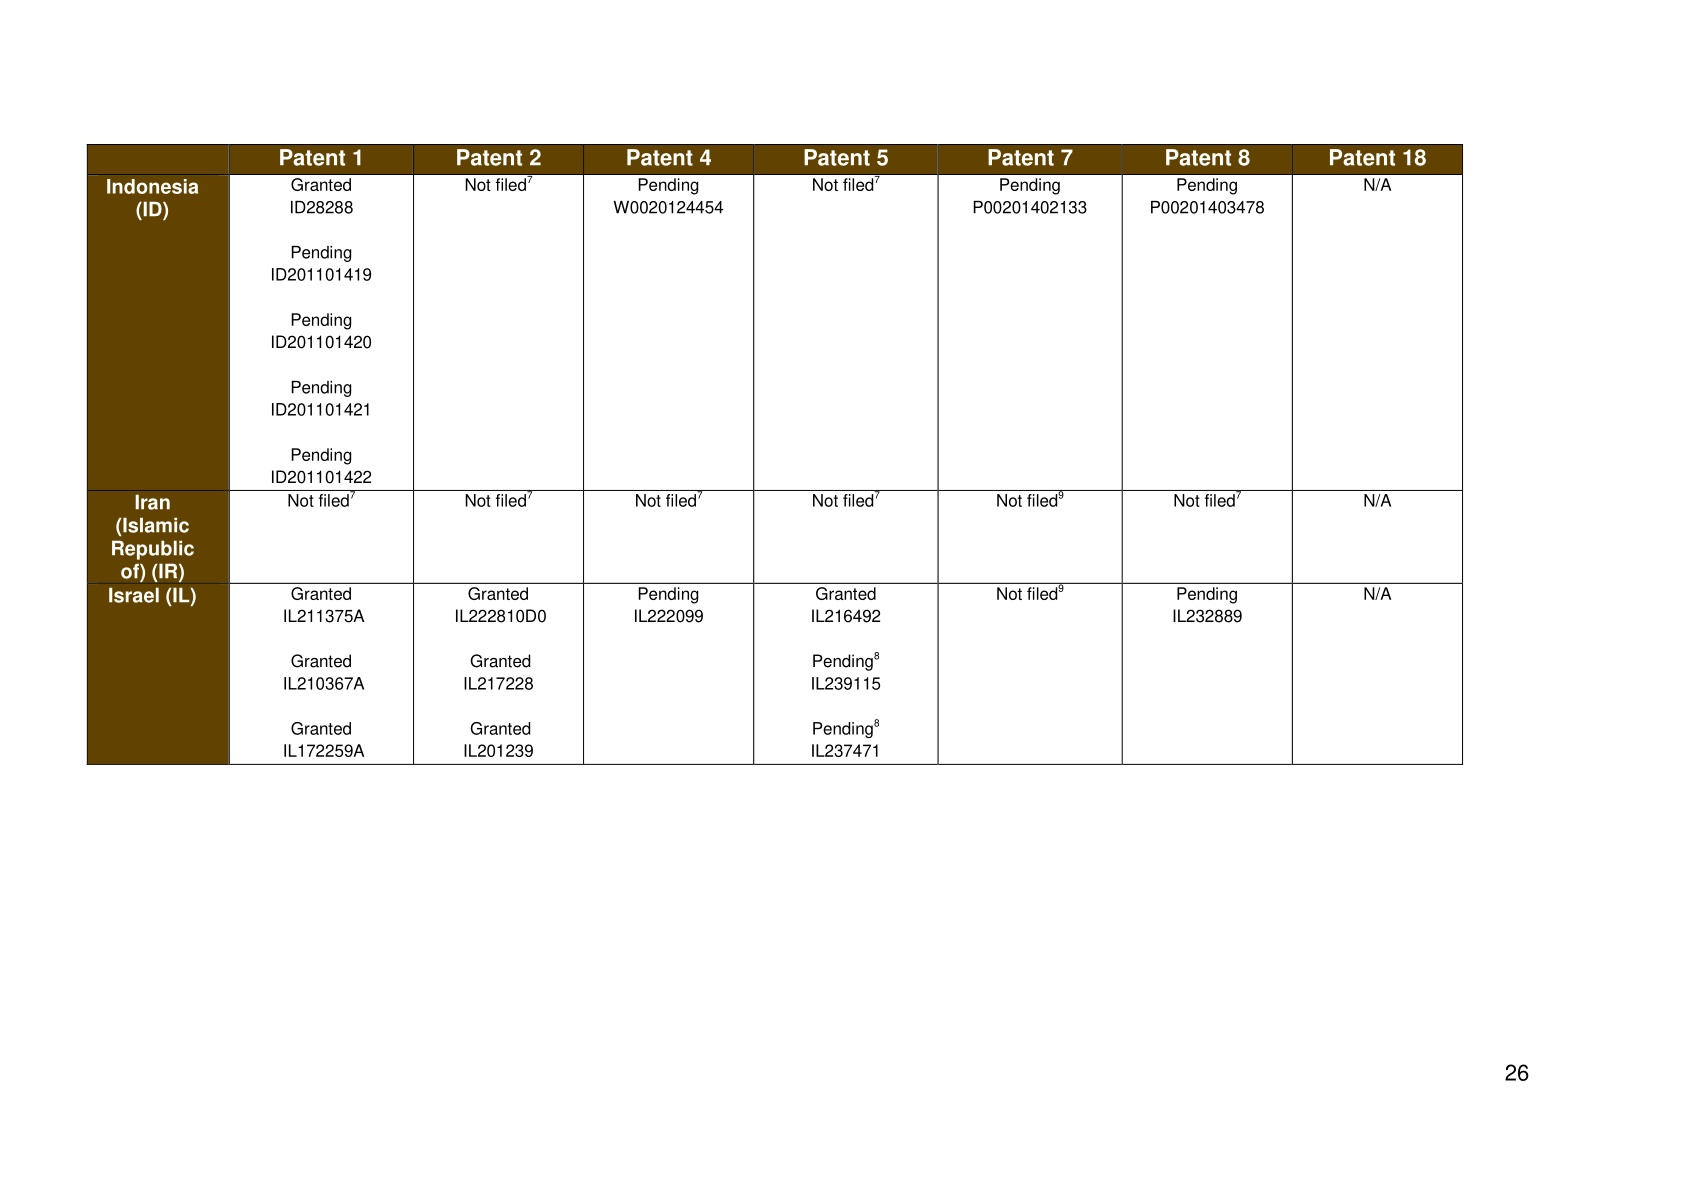full_lined: (86, 143, 1462, 766)
